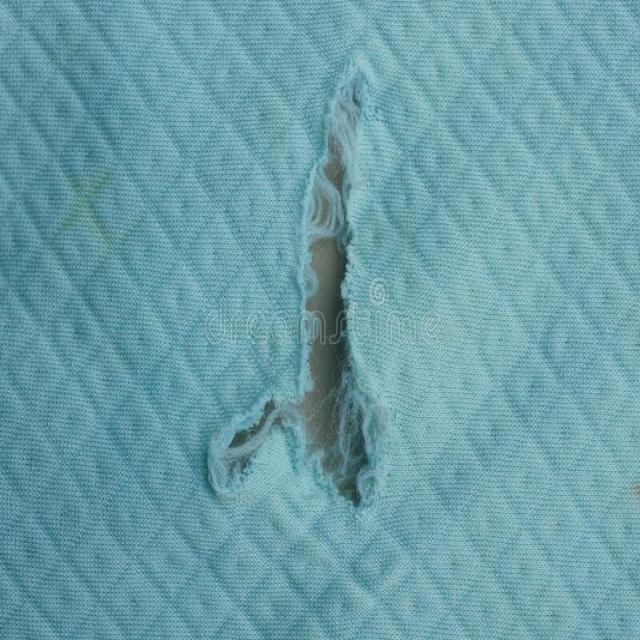Hole: (208, 64, 386, 508)
